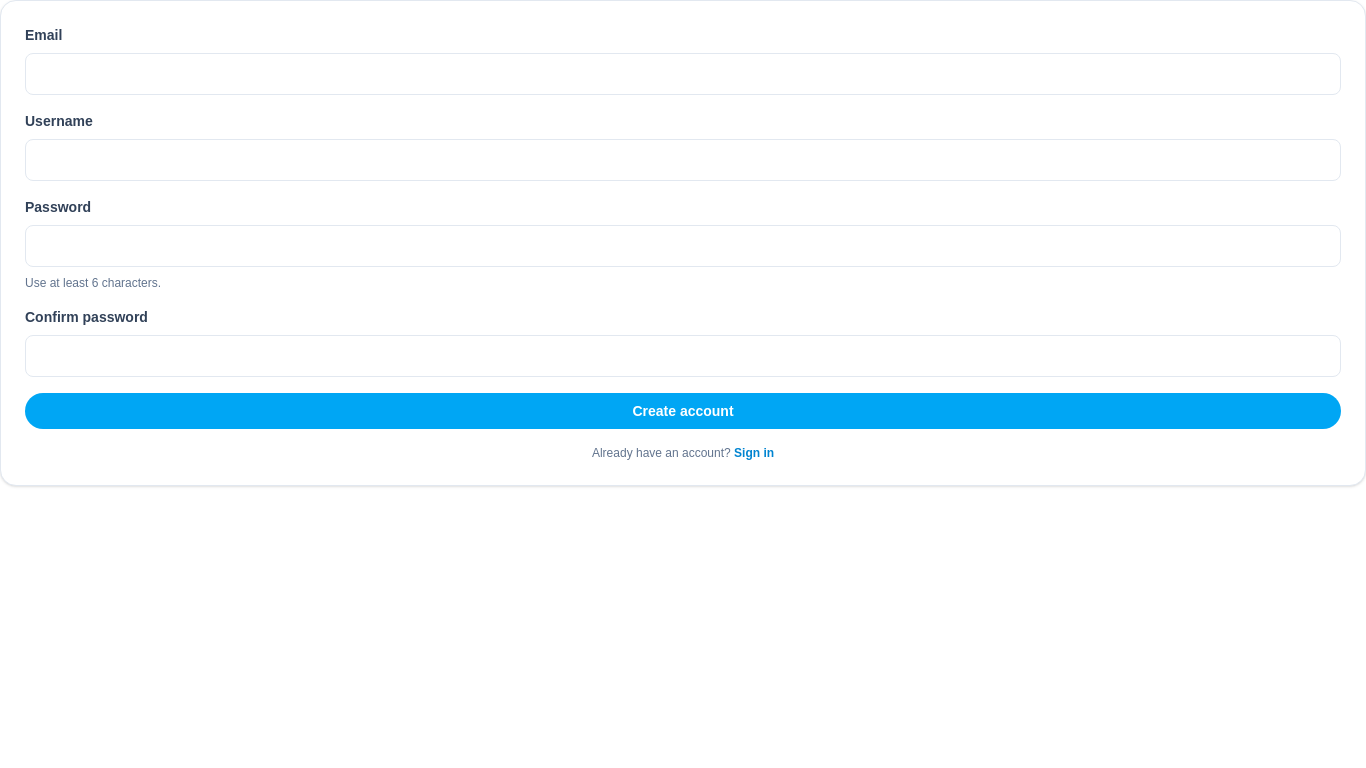
Test: SignUpForm › shows an error when sign up fails
The image size is (1366, 768).
Type "alex@example.com" into the field labelled "Email" at x=683, y=74, box x1=25 y1=53 x2=1341 y2=95
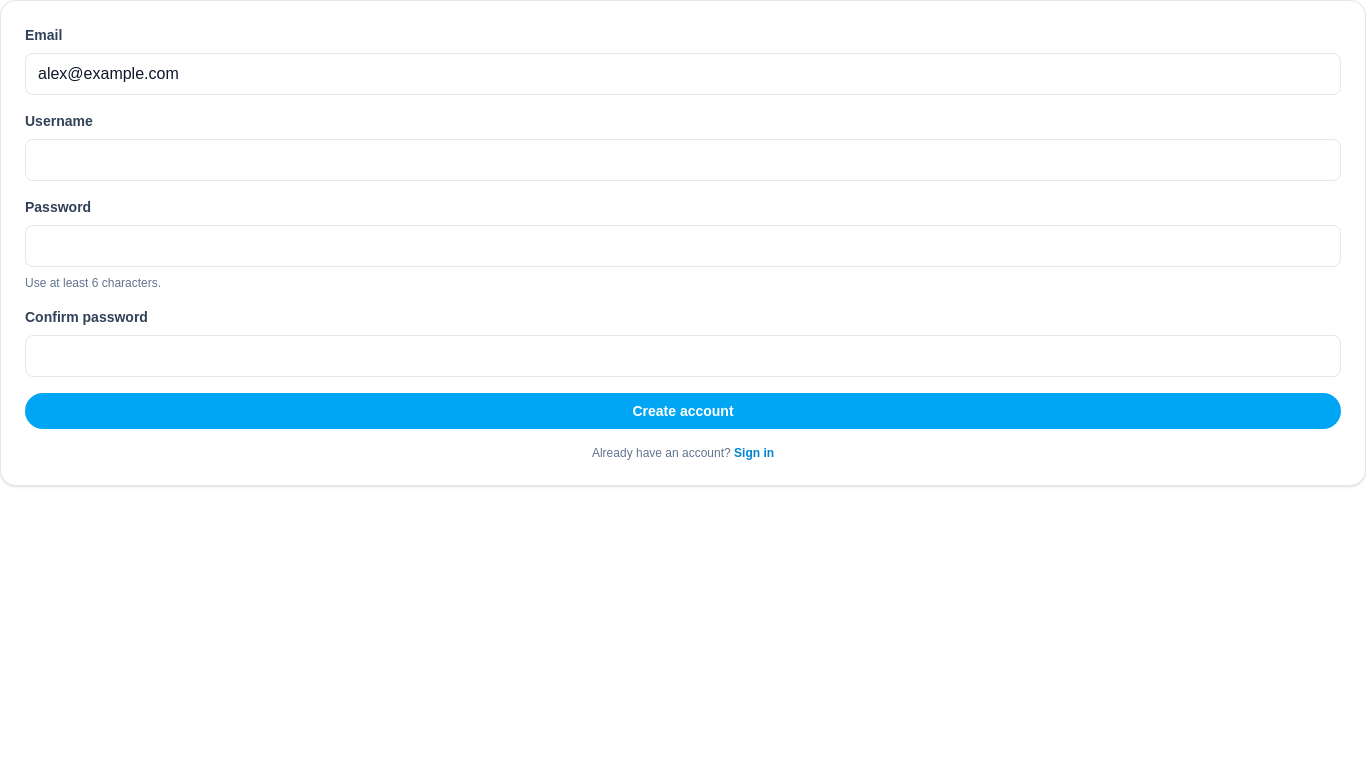
Type "alex" into the field labelled "Username" at x=683, y=160, box x1=25 y1=139 x2=1341 y2=181
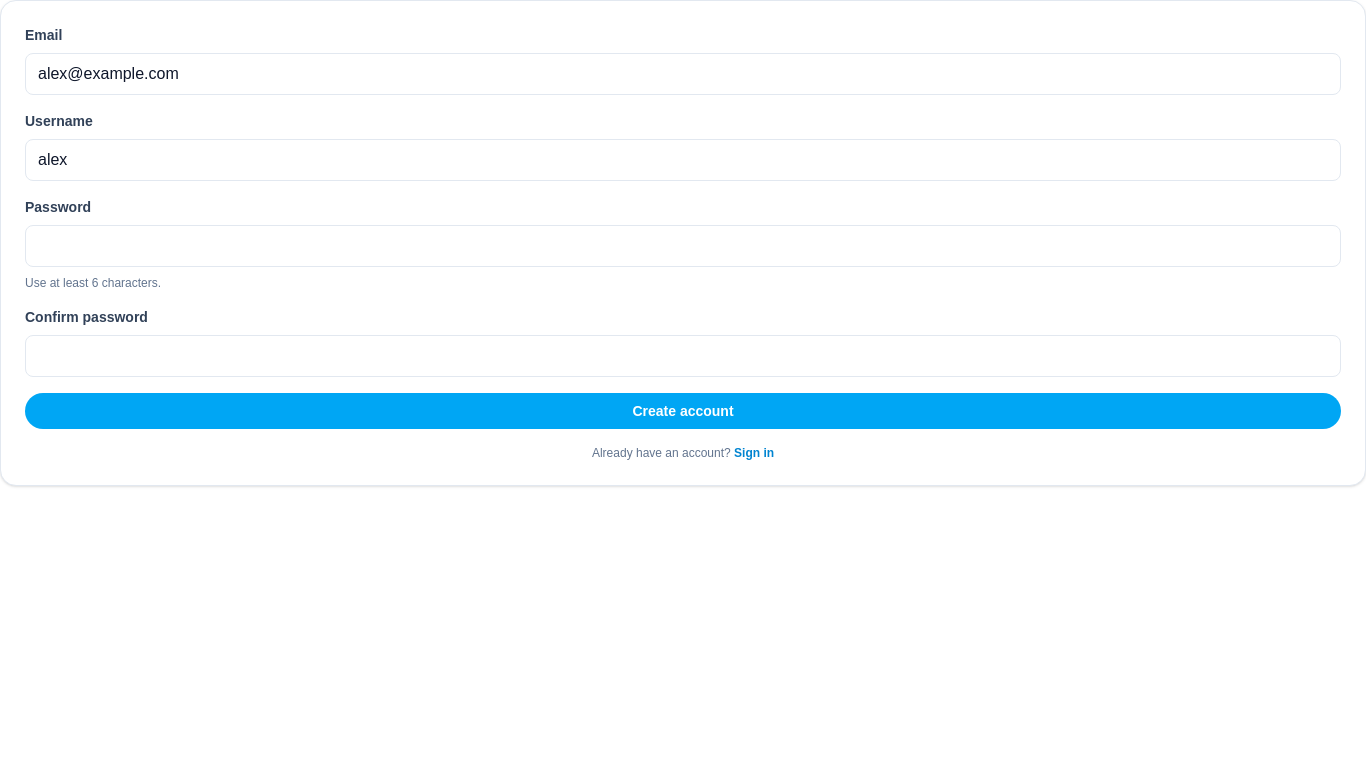
Type "secret" into the password field labelled "Password" at x=683, y=246, box x1=25 y1=225 x2=1341 y2=267
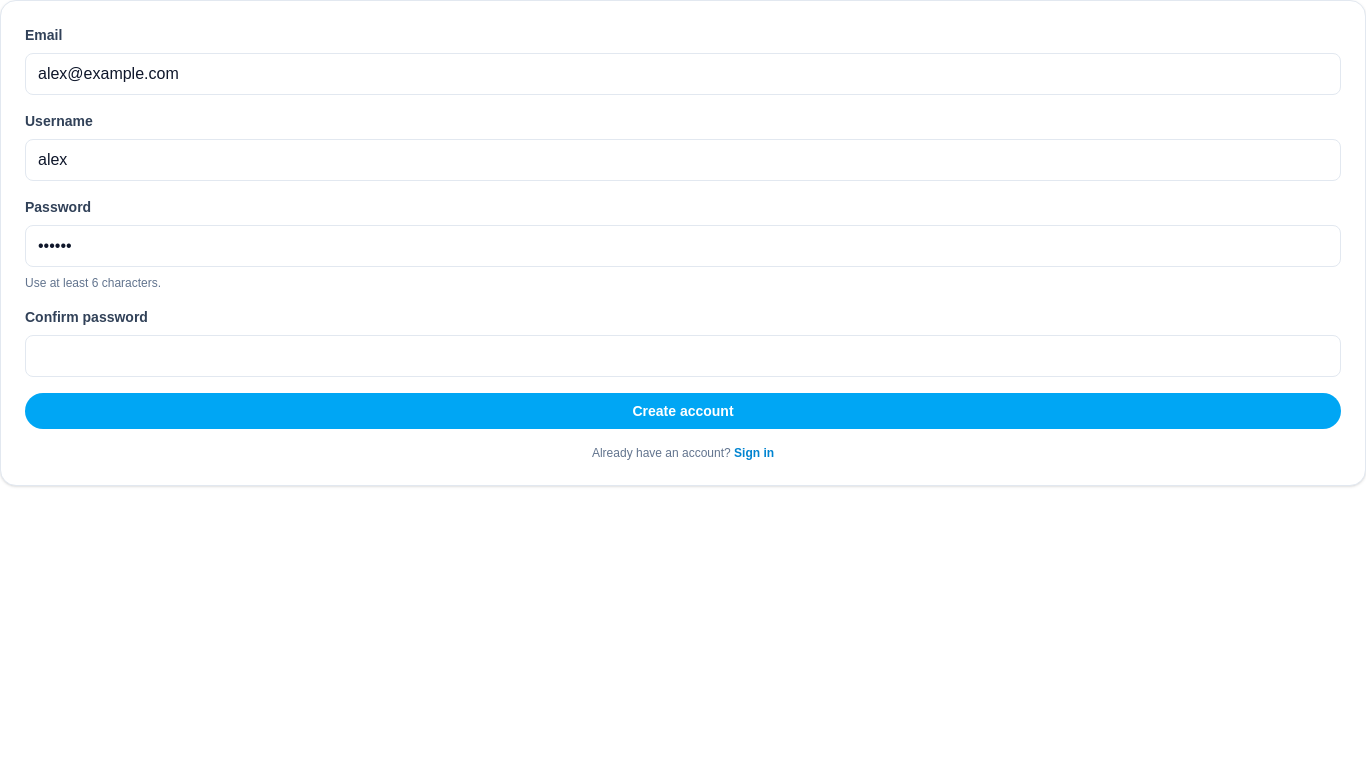
Type "secret" into the password field labelled "Confirm password" at x=683, y=356, box x1=25 y1=335 x2=1341 y2=377
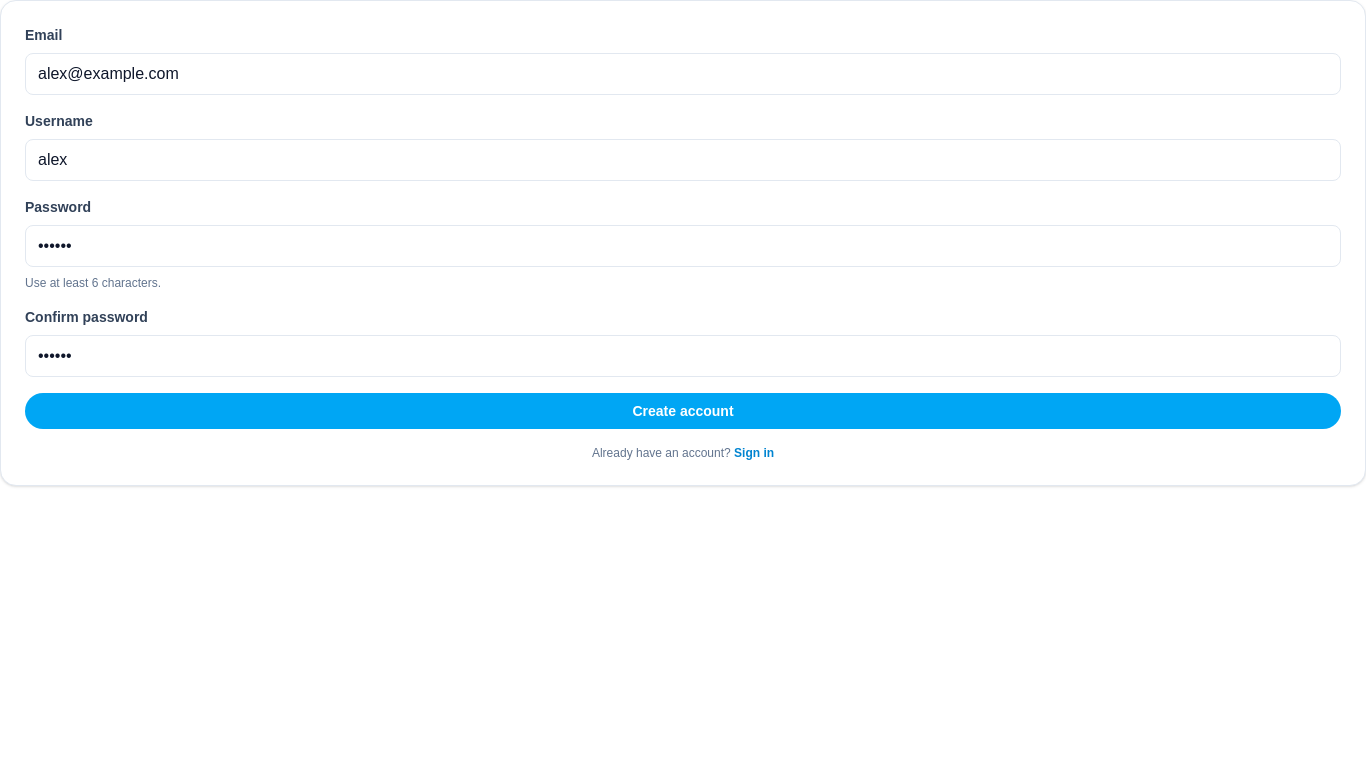
Click the button "Create account" at x=683, y=411, box x1=25 y1=393 x2=1341 y2=429
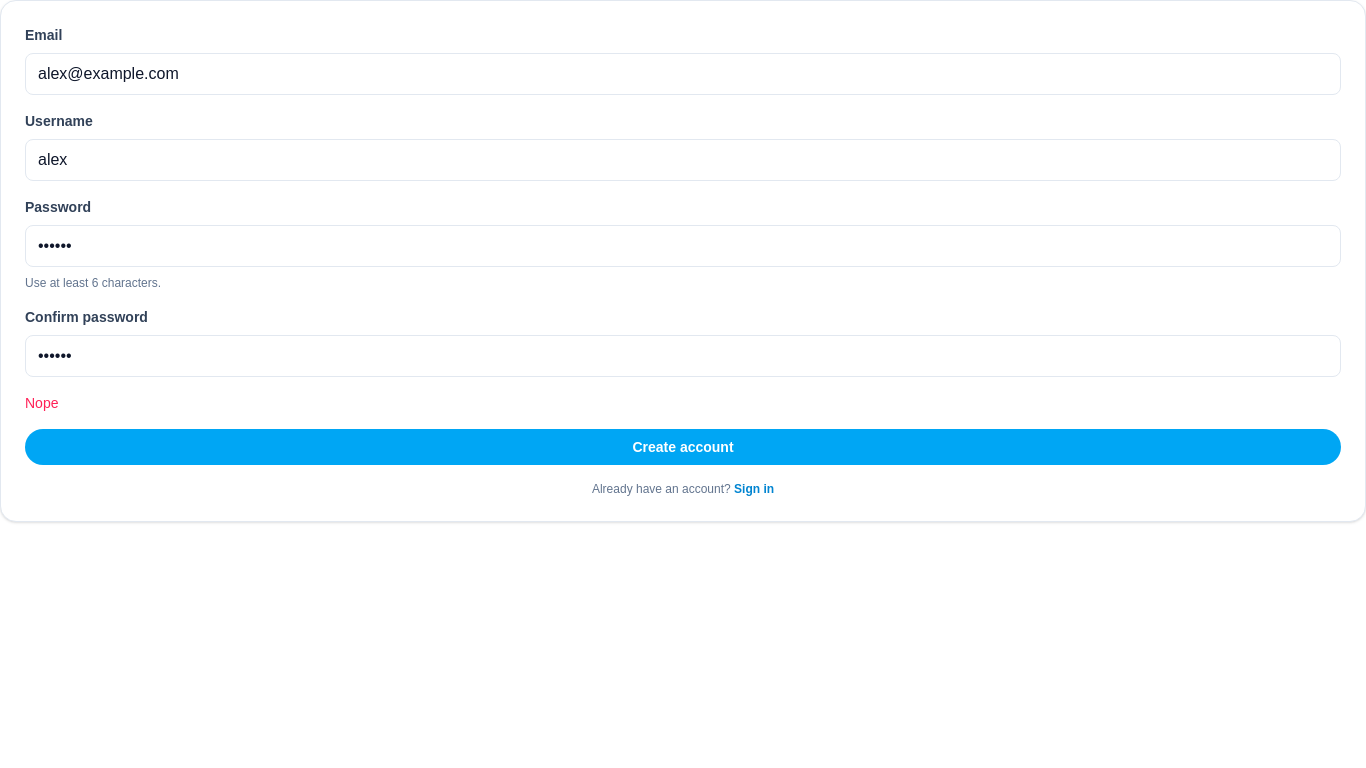
Expected: the text "Nope" is shown, x1=25 y1=395 x2=58 y2=411
